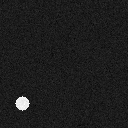nodule: (10, 91, 34, 115)
